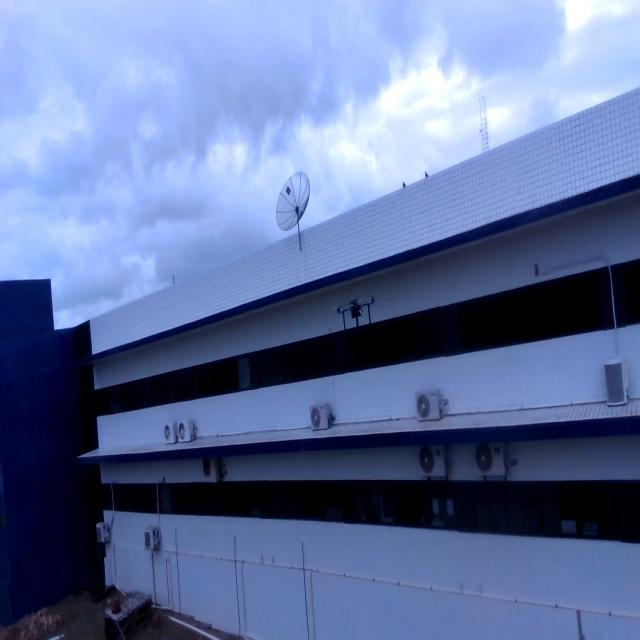-uav-: (332, 292, 380, 341)
